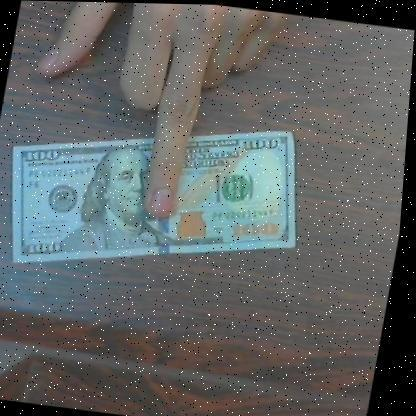one_hundred-front: (0, 92, 323, 296)
